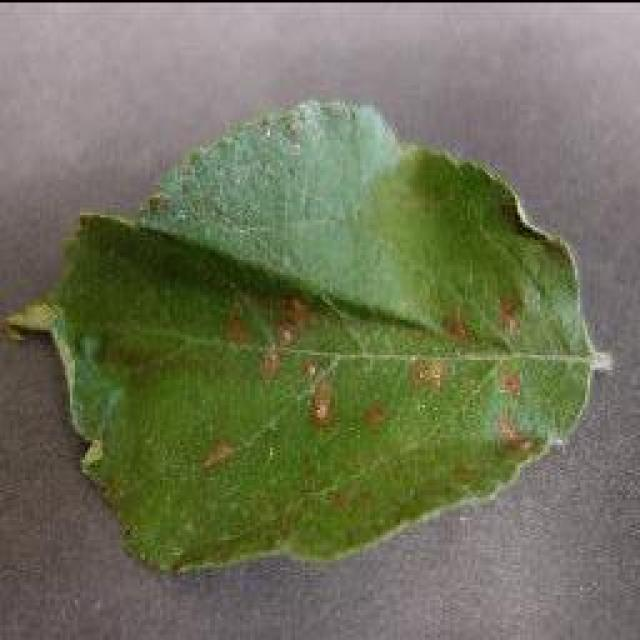apple rust disease: (0, 94, 612, 577)
